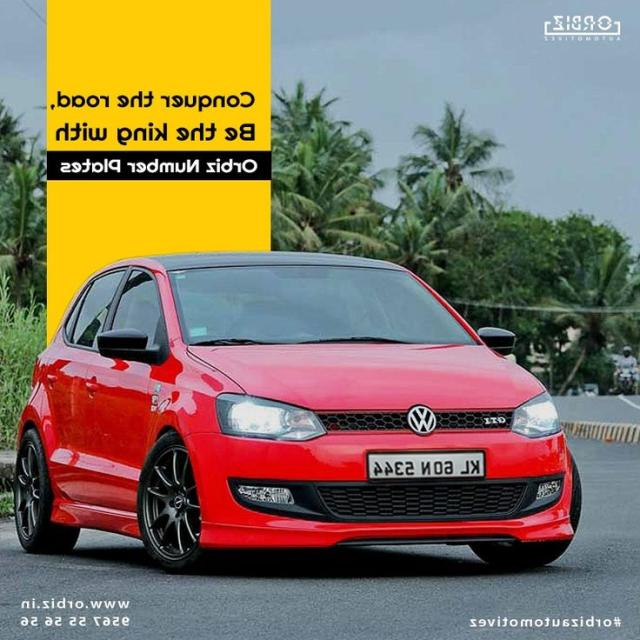number-plate: (351, 437, 500, 488)
